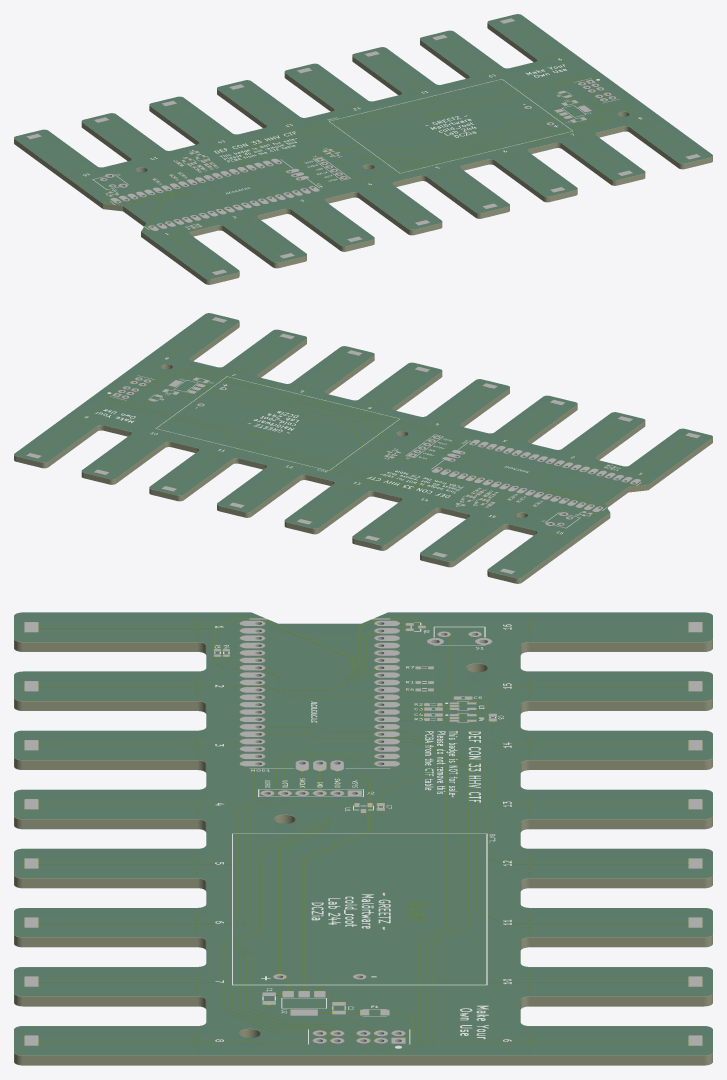
Rendered from hhvdc33-badge-driving-module-and-sao9000-connector-standard.glb.
3 renders of one model, top to bottom at view 1: azimuth 30°, elevation 25°; view 2: azimuth 150°, elevation 25°; view 3: azimuth 270°, elevation 25°, orthographic. The views are drawn at different scales.
Visible parts, largest first — view 1: =>[0:1:1:7], =>[0:1:1:9], =>[0:1:1:2], =>[0:1:1:5]; view 2: =>[0:1:1:7], =>[0:1:1:9], =>[0:1:1:2], =>[0:1:1:5]; view 3: =>[0:1:1:9], =>[0:1:1:7], =>[0:1:1:2], =>[0:1:1:5].
Boxes of the visible parts, x1=… form: =>[0:1:1:7]: x1=14, y1=14, x2=712, y2=284; =>[0:1:1:9]: x1=14, y1=15, x2=712, y2=284; =>[0:1:1:2]: x1=27, y1=18, x2=700, y2=274; =>[0:1:1:5]: x1=83, y1=58, x2=642, y2=234; =>[0:1:1:7]: x1=14, y1=313, x2=712, y2=583; =>[0:1:1:9]: x1=14, y1=314, x2=712, y2=583; =>[0:1:1:2]: x1=26, y1=317, x2=699, y2=573; =>[0:1:1:5]: x1=84, y1=357, x2=642, y2=534; =>[0:1:1:9]: x1=14, y1=613, x2=712, y2=1065; =>[0:1:1:7]: x1=14, y1=612, x2=712, y2=1065; =>[0:1:1:2]: x1=25, y1=618, x2=701, y2=1048; =>[0:1:1:5]: x1=214, y1=618, x2=511, y2=1048.
Bounding box in the file's own units: 0.1524 × 0.00166 × 0.1016.
4 materials, 4 textured.
